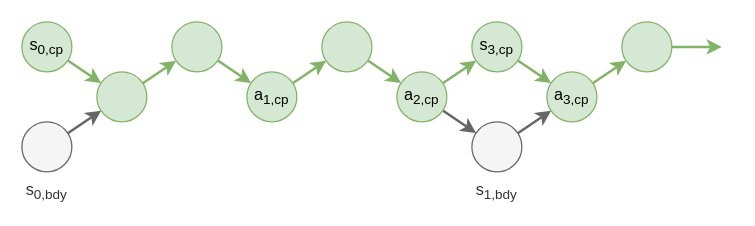
The diagram is 755 pixels wide and 226 high, and some of its shapes have lost their labels. Each missing label, with the centre of its shape:
a 0,cp: (121,96)
s 1,cp: (196,46)
s 2,cp: (346,46)
s 4,cp: (646,46)
